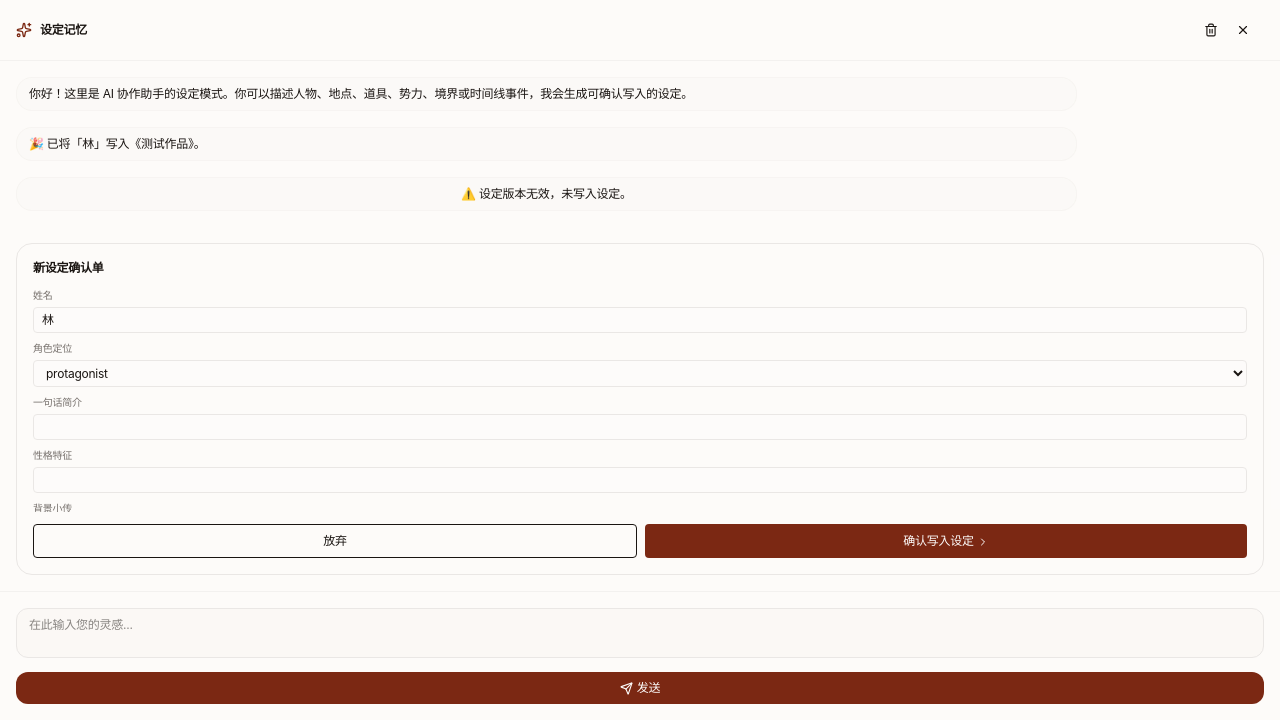
Test: 作品助手设定安全边界 › 当前作品变化时不写入并提示
Click the button "确认写入设定".
click(946, 541)  # box left=645, top=524, right=1247, bottom=558
(page scrolled)
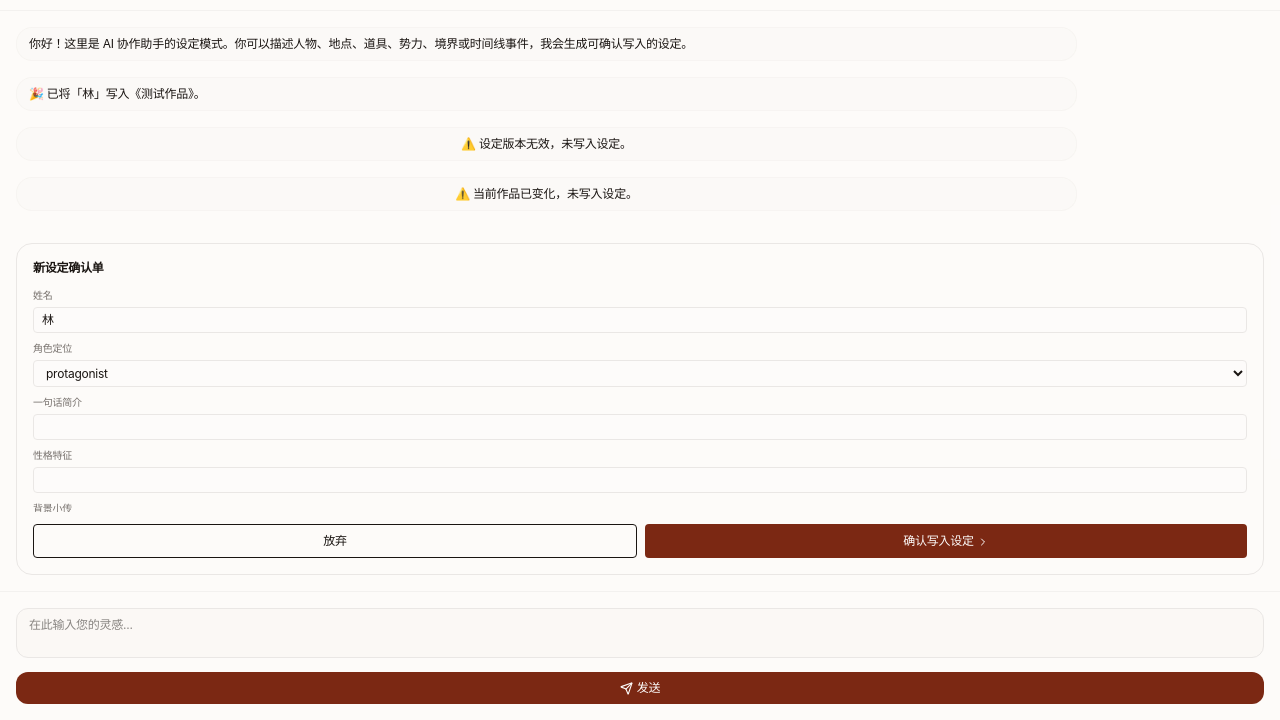
Now the text "⚠️ 当前作品已变化，未写入设定。" is shown, box left=16, top=177, right=1077, bottom=211
